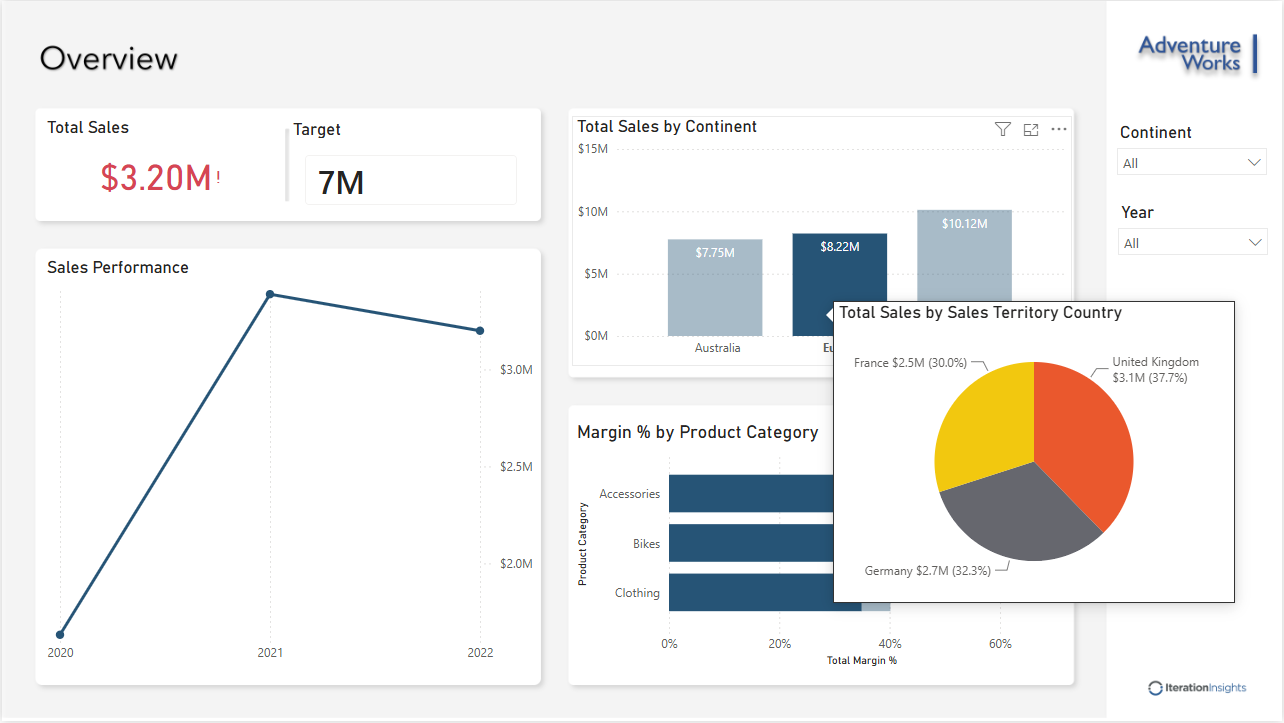

This screenshot's page, from the dashboard's own definition file:
{"tool":"powerbi","page":{"name":"Overview","canvas":[1280,720],"ordinal":0},"visuals":[{"type":"slicer","title":"Slicer Year","fields":{"Values":["Order Date.Order Date Year"]},"box":[1105.7,195.7,170,80],"z":6000},{"type":"slicer","title":"Slicer Continent","fields":{"Values":["Sales Territory.Sales Territory Continent"]},"box":[1105,115.7,170,70],"z":6015},{"type":"clusteredBarChart","title":"Margin % by Product Category","fields":{"Category":["Product.Product Hierarchy.Product Category","Product.Product Hierarchy.Product Subcategory"],"Y":["Sales.Total Margin %"]},"box":[570,420,500,250],"z":6031},{"type":"lineChart","title":"Sales Performance","fields":{"Category":["Order Date.Order Date Hierarchy.Order Date Year","Order Date.Order Date Hierarchy.Order Date Month","Order Date.Order Date Hierarchy.Order Date"],"Y2":["Sales.Total Sales"]},"box":[40,255.7,495.7,414.3],"z":6062},{"type":"clusteredColumnChart","title":"Total Sales by Continent","fields":{"Category":["Sales Territory.Sales Territory Continent"],"Y":["Sales.Total Sales"]},"box":[570,115,500,250],"z":6125},{"type":"cardVisual","title":"Target","fields":{"Data":["Sales.Target"]},"box":[288.6,115.7,240,100],"z":6250},{"type":"kpi","title":"Total Sales","fields":{"Goal":["Sales.Target"],"Indicator":["Sales.Total Sales"],"TrendLine":["Order Date.Order Date Year"]},"box":[40,115.7,240,100],"z":7250}]}

Visuals, with their boxes in screenshot pixels (x1, y1, x2, y2), scaled from the page's 1280x720 canvas onto the 1284x723 screenshot:
"Slicer Year" slicer: (1109,197,1280,277)
"Slicer Continent" slicer: (1108,116,1279,186)
"Margin % by Product Category" clusteredBarChart: (572,422,1073,673)
"Sales Performance" lineChart: (40,257,537,673)
"Total Sales by Continent" clusteredColumnChart: (572,115,1073,367)
"Target" cardVisual: (290,116,530,217)
"Total Sales" kpi: (40,116,281,217)
